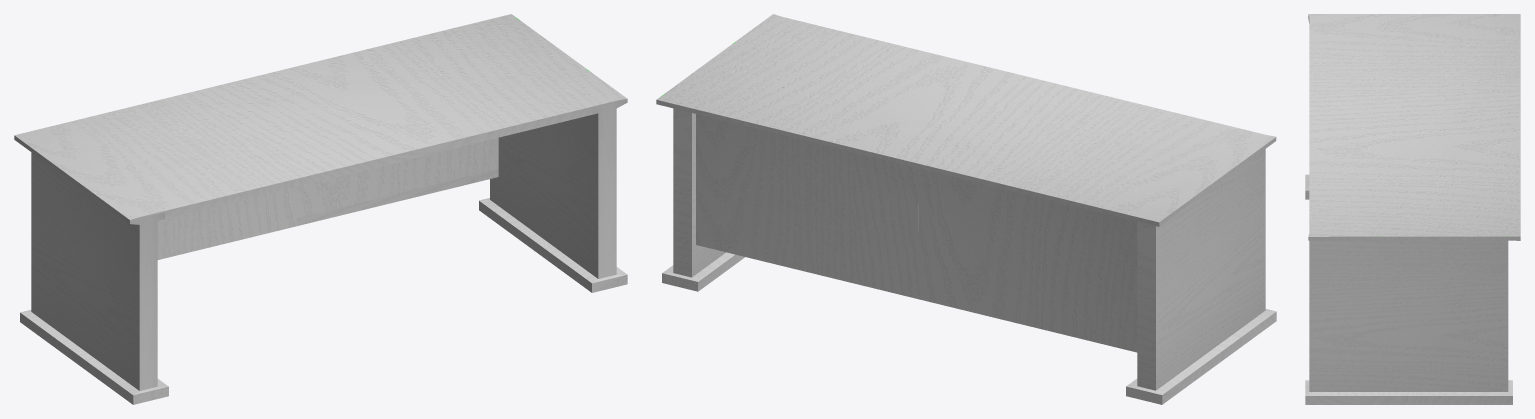
Rendered from desk.FBX.
3 renders of one model, left to right at view 1: azimuth 30°, elevation 25°; view 2: azimuth 150°, elevation 25°; view 3: azimuth 270°, elevation 25°, orthographic. The views are drawn at different scales.
Visible parts, largest first — view 1: Box001; view 2: Box001; view 3: Box001.
Part boxes in pixels (<box>): Box001: <box>14,14,627,404</box>; Box001: <box>656,14,1276,404</box>; Box001: <box>1305,14,1520,404</box>.
Bounding box in the file's own units: 279 × 98.45 × 114.
